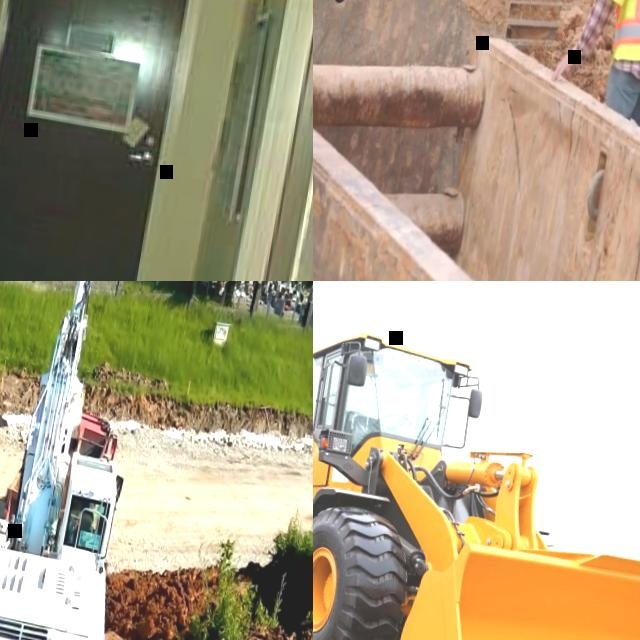Person: (546, 0, 640, 130)
machinery: (313, 299, 640, 640), (0, 281, 167, 640), (313, 0, 601, 64)
